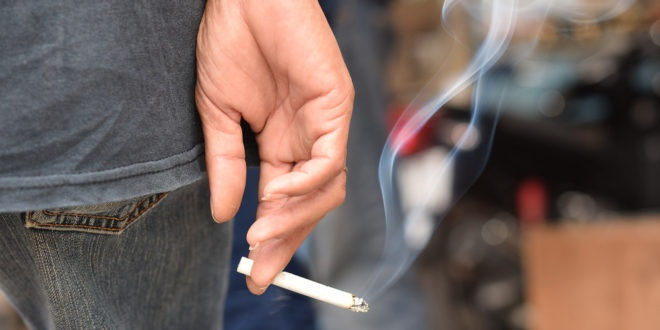sigaretta: (242, 242, 369, 310)
